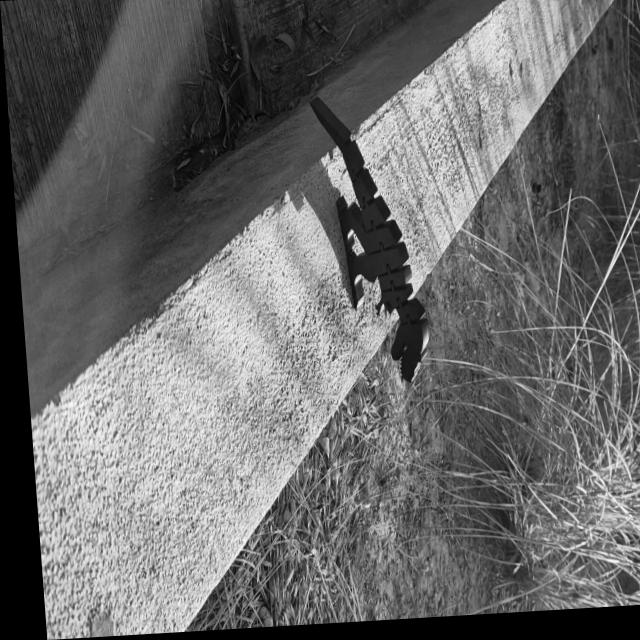dino: (308, 89, 434, 389)
